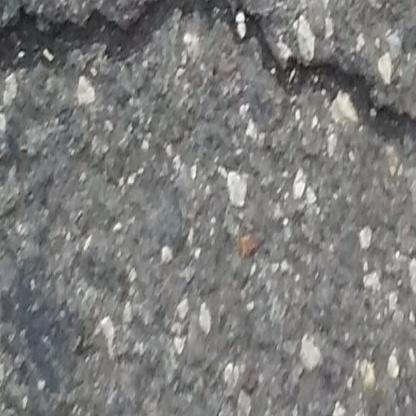Cracks: (0, 0, 416, 177)
